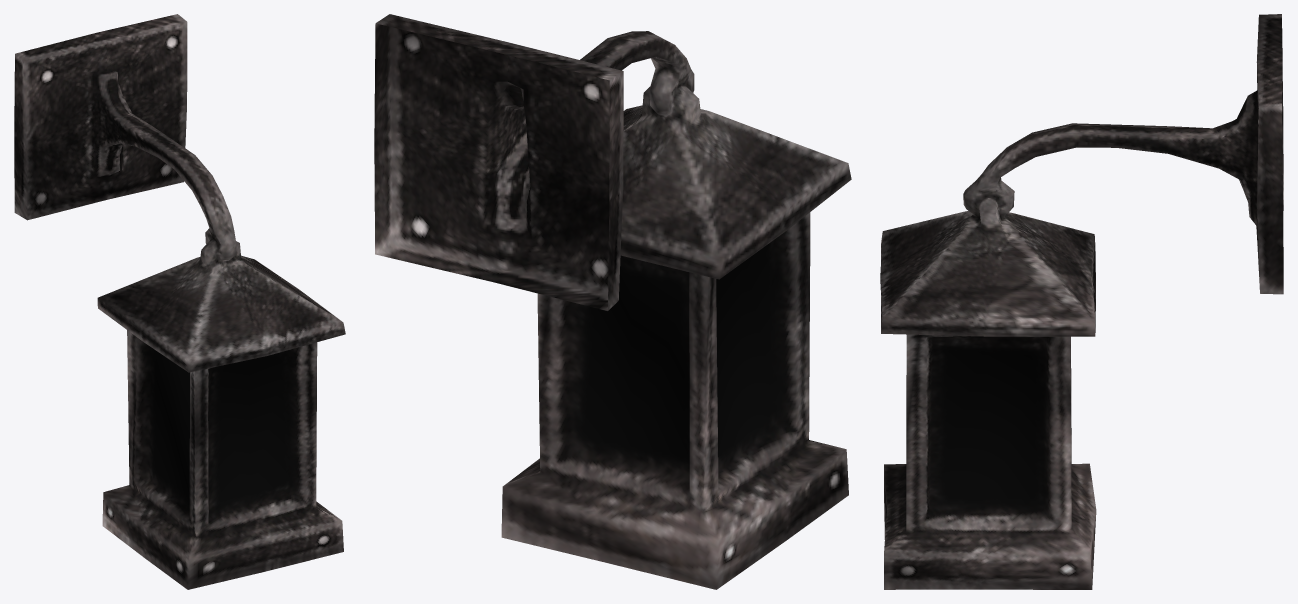
Rendered from Wall Lamp.FBX.
The picture shows the model from 3 angles, left to right: view 1: azimuth 30°, elevation 25°; view 2: azimuth 150°, elevation 25°; view 3: azimuth 270°, elevation 25°; orthographic projection. The views are drawn at different scales.
Parts seen in each view (by area): view 1: Wall Lamp; view 2: Wall Lamp; view 3: Wall Lamp.
Boxes of the visible parts, x1=… form: Wall Lamp: x1=14, y1=14, x2=345, y2=589; Wall Lamp: x1=374, y1=14, x2=851, y2=589; Wall Lamp: x1=880, y1=14, x2=1283, y2=589.
Bounding box in the file's own units: 16.98 × 30.97 × 41.28.
Materials: 1 (1 with a texture image).
